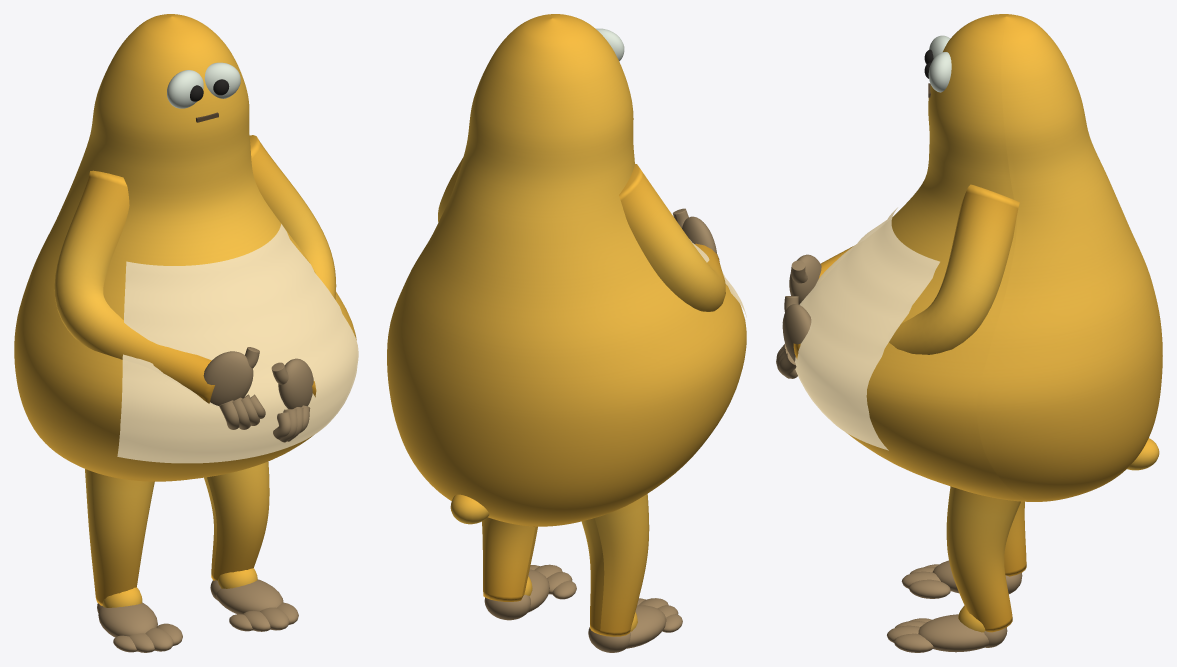
Rendered from MilkFrog.glb.
3 views of the same model, side by side, from view 1: azimuth 30°, elevation 25°; view 2: azimuth 150°, elevation 25°; view 3: azimuth 270°, elevation 25° (orthographic). The views are drawn at different scales.
Visible parts, largest first — view 1: Body, Belly, ArmR, LegR, LegL, ArmL, PalmR, SoleL, SoleR, PalmL, EyeL, EyeR (+2 smaller); view 2: Body, LegR, ArmR, LegL, SoleR, Tail, HeelL, PalmR, HeelR, SoleL; view 3: Body, Belly, ArmL, LegL, SoleL, LegR, PalmL, PalmR, EyeR, ToeR0, ToeL0.
Boxes of the visible parts, left/top/right/bottom form: Body: left=14, top=14, right=356, bottom=481; Belly: left=117, top=224, right=358, bottom=463; ArmR: left=54, top=170, right=214, bottom=403; LegR: left=85, top=469, right=154, bottom=605; LegL: left=204, top=461, right=269, bottom=580; ArmL: left=249, top=135, right=336, bottom=397; PalmR: left=203, top=351, right=253, bottom=405; SoleL: left=216, top=579, right=283, bottom=614; SoleR: left=98, top=602, right=157, bottom=637; PalmL: left=278, top=358, right=313, bottom=409; EyeL: left=167, top=70, right=203, bottom=108; EyeR: left=204, top=62, right=240, bottom=98; Body: left=387, top=14, right=746, bottom=526; LegR: left=581, top=494, right=649, bottom=636; ArmR: left=619, top=164, right=725, bottom=311; LegL: left=482, top=517, right=537, bottom=601; SoleR: left=626, top=605, right=666, bottom=648; Tail: left=450, top=494, right=489, bottom=524; HeelL: left=484, top=594, right=530, bottom=620; PalmR: left=682, top=216, right=717, bottom=254; HeelR: left=588, top=627, right=630, bottom=652; SoleL: left=528, top=569, right=549, bottom=612; Body: left=846, top=14, right=1162, bottom=501; Belly: left=795, top=207, right=939, bottom=450; ArmL: left=793, top=184, right=1019, bottom=359; LegL: left=946, top=486, right=1020, bottom=632; SoleL: left=918, top=614, right=988, bottom=652; LegR: left=1004, top=501, right=1026, bottom=576; PalmL: left=782, top=304, right=811, bottom=361; PalmR: left=789, top=254, right=821, bottom=304; EyeR: left=928, top=52, right=951, bottom=92; ToeR0: left=909, top=579, right=950, bottom=598; ToeL0: left=894, top=633, right=933, bottom=652.
Size of the model in its own units: 1.03 by 2 by 1.16.
Materials: 7 (1 with a texture image).
